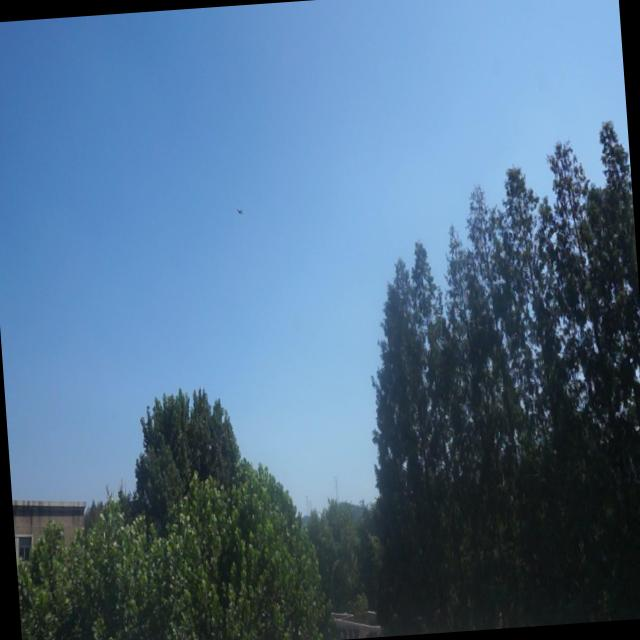drone: (234, 202, 244, 220)
